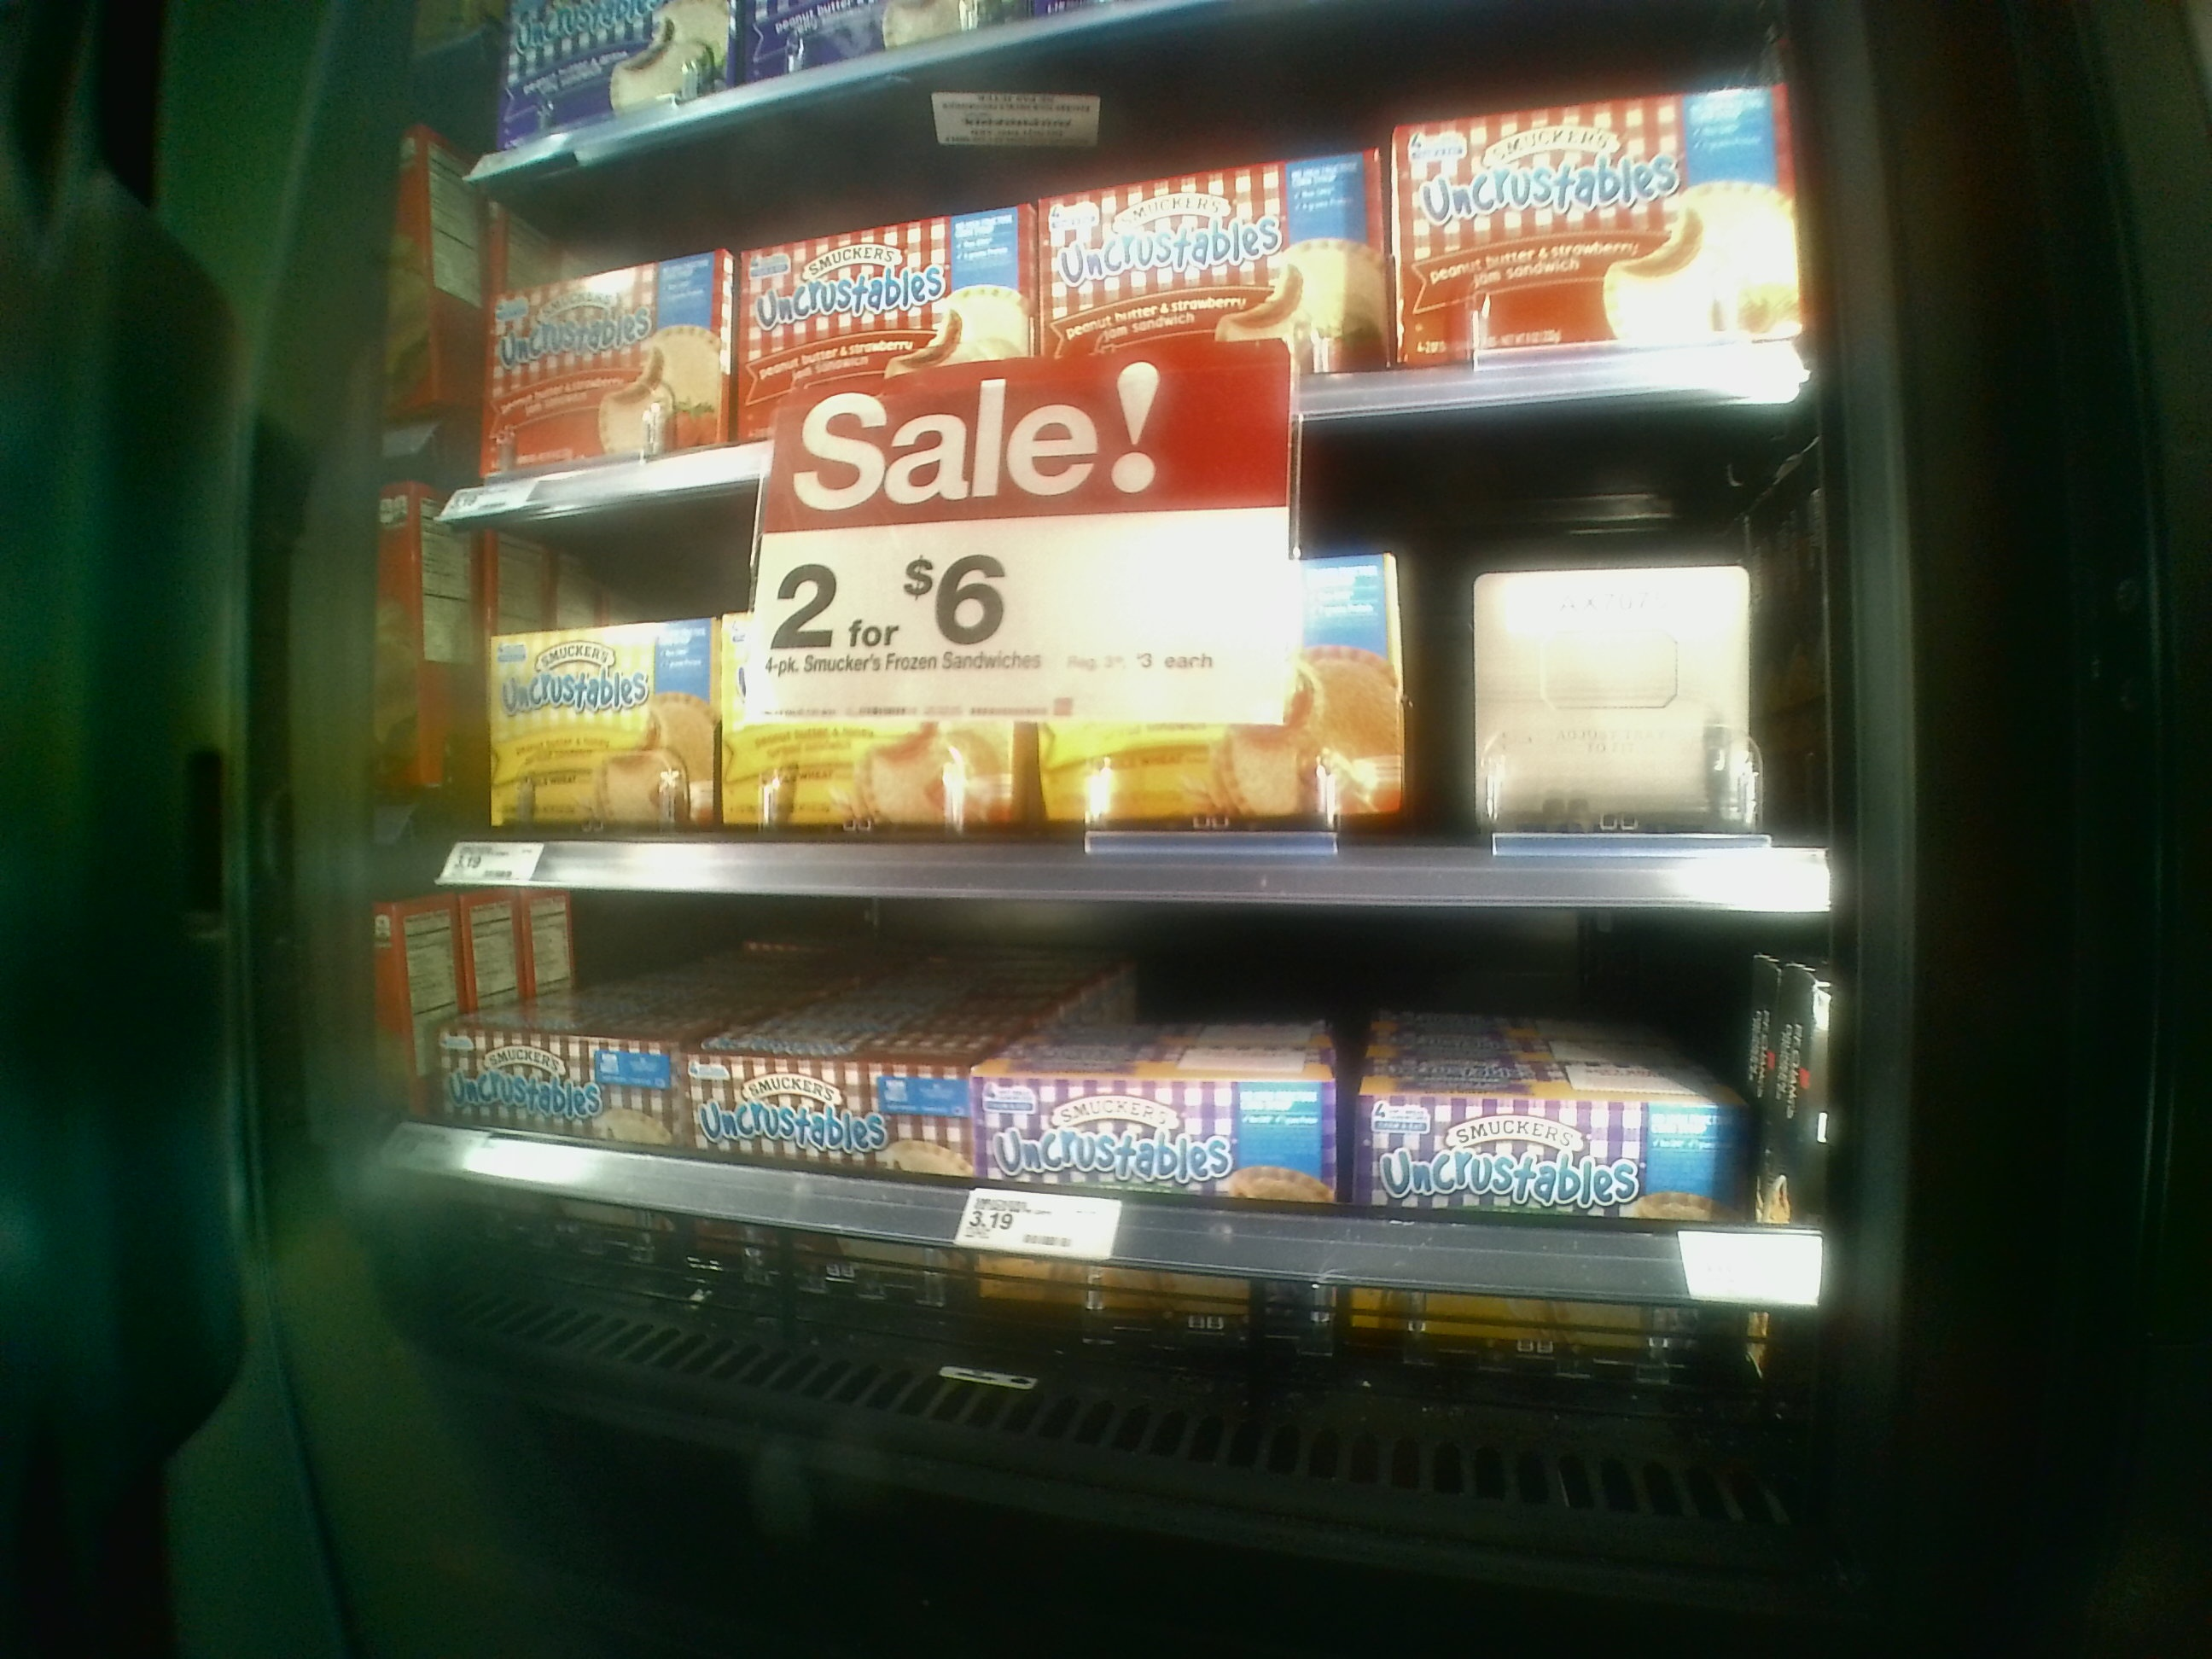shelf: (418, 836, 1815, 1403), (425, 491, 1825, 913)
